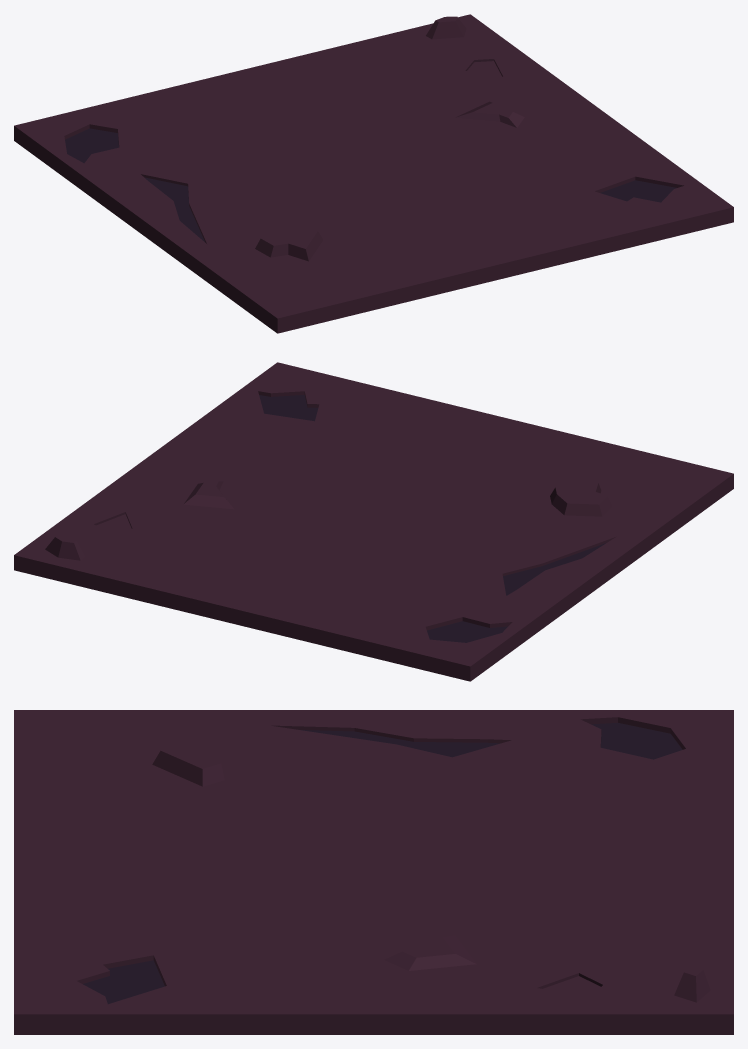
Rendered from Tanah.fbx.
3 views of the same model, one above another, from view 1: azimuth 30°, elevation 25°; view 2: azimuth 150°, elevation 25°; view 3: azimuth 270°, elevation 25° (orthographic). The views are drawn at different scales.
Visible parts, largest first — view 1: Plane.001; view 2: Plane.001; view 3: Plane.001.
Boxes of the visible parts, x1,y1,x2,y2 form: Plane.001: (14,14,733,333); Plane.001: (14,362,733,681); Plane.001: (14,710,733,1034).
Size of the model in its own units: 2252 by 140 by 2252.
